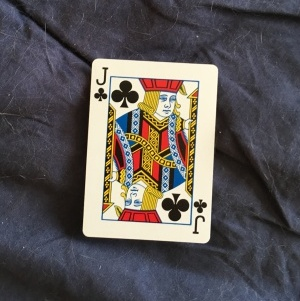card: (81, 57, 219, 244)
